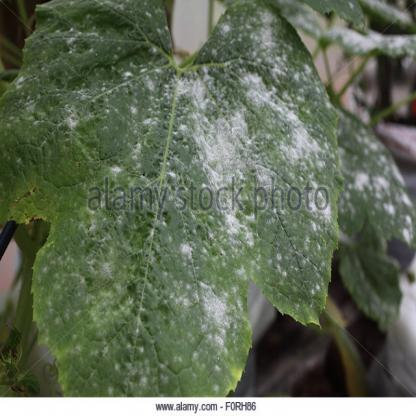Squash Powdery mildew leaf: (1, 3, 351, 402)
